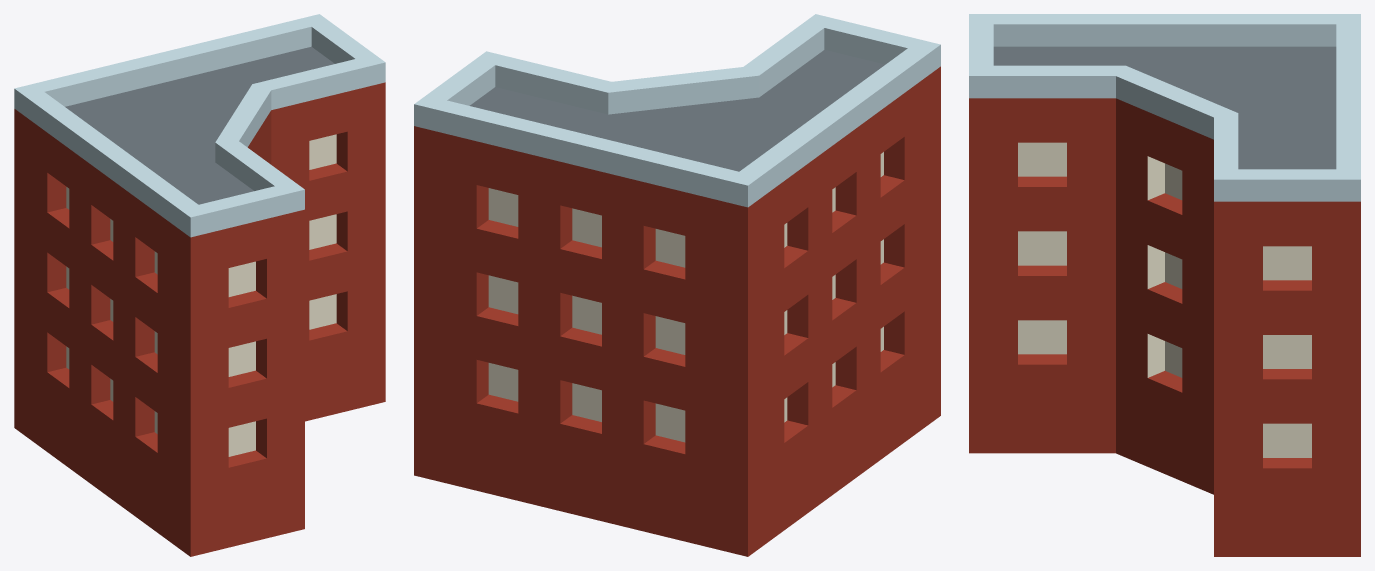
File: Building_8 (Red).obj
3 renders of one model, left to right at view 1: azimuth 30°, elevation 25°; view 2: azimuth 150°, elevation 25°; view 3: azimuth 270°, elevation 25°, orthographic. The views are drawn at different scales.
Parts seen in each view (by area): view 1: Building_8_(Red); view 2: Building_8_(Red); view 3: Building_8_(Red).
Part boxes in pixels (x1=…): Building_8_(Red): x1=14, y1=14, x2=385, y2=556; Building_8_(Red): x1=414, y1=14, x2=940, y2=556; Building_8_(Red): x1=969, y1=14, x2=1360, y2=556.
Bounding box in the file's own units: 1.6 × 1.7 × 1.6.
